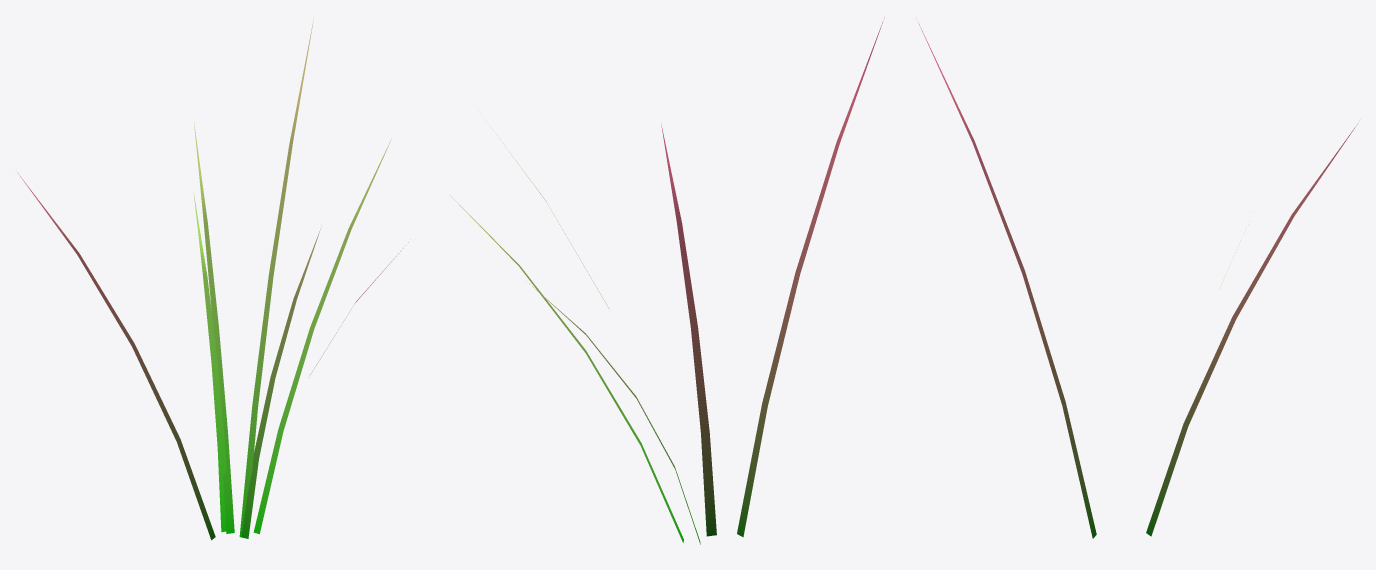
Rendered from reed_c_lod.glb.
3 renders of one model, left to right at view 1: azimuth 30°, elevation 25°; view 2: azimuth 150°, elevation 25°; view 3: azimuth 270°, elevation 25°, orthographic. The views are drawn at different scales.
Visible parts, largest first — view 1: Reed_C_LOD; view 2: Reed_C_LOD; view 3: Reed_C_LOD.
Part boxes in pixels (x1=…): Reed_C_LOD: x1=17, y1=18, x2=408, y2=540; Reed_C_LOD: x1=450, y1=18, x2=884, y2=544; Reed_C_LOD: x1=918, y1=22, x2=1357, y2=538.
Bounding box in the file's own units: 1.37 × 1.8 × 1.48.
